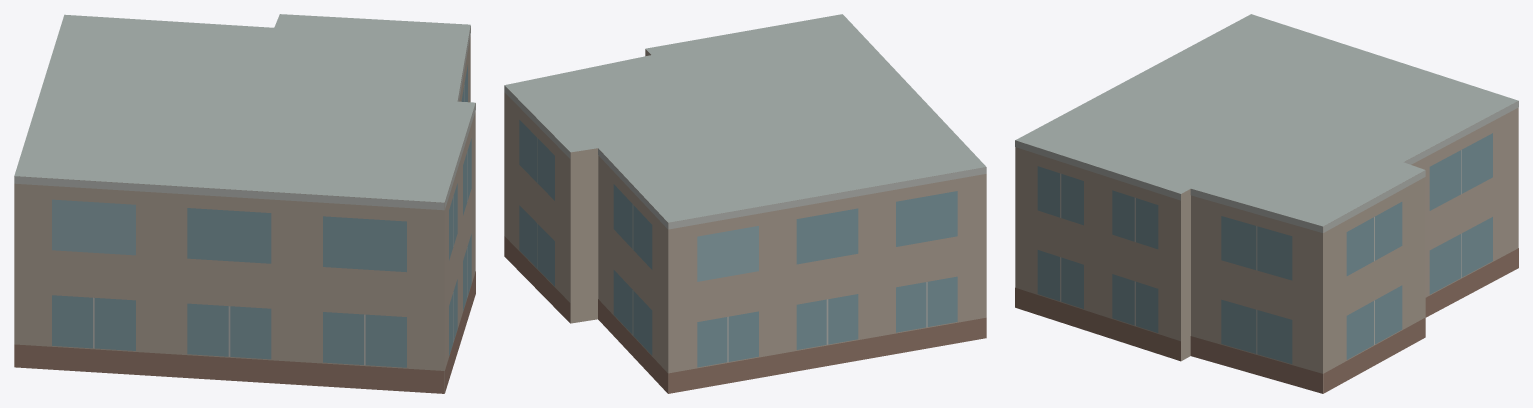
Rendered from survey-upis-32889224.glb.
3 views of the same model, side by side, from view 1: azimuth 30°, elevation 25°; view 2: azimuth 150°, elevation 25°; view 3: azimuth 270°, elevation 25° (orthographic). The views are drawn at different scales.
Parts seen in each view (by area): view 1: survey-upis-32889224.tmp; view 2: survey-upis-32889224.tmp; view 3: survey-upis-32889224.tmp.
Boxes of the visible parts, <box> form: survey-upis-32889224.tmp: <box>14,14,475,393</box>; survey-upis-32889224.tmp: <box>504,14,986,393</box>; survey-upis-32889224.tmp: <box>1015,14,1518,393</box>.
Size of the model in its own units: 16.62 by 6.1 by 16.64.
